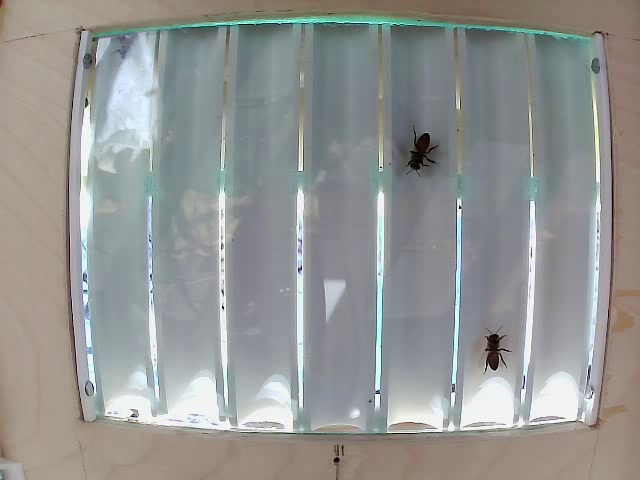bee: (404, 117, 443, 189), (467, 311, 516, 362)
